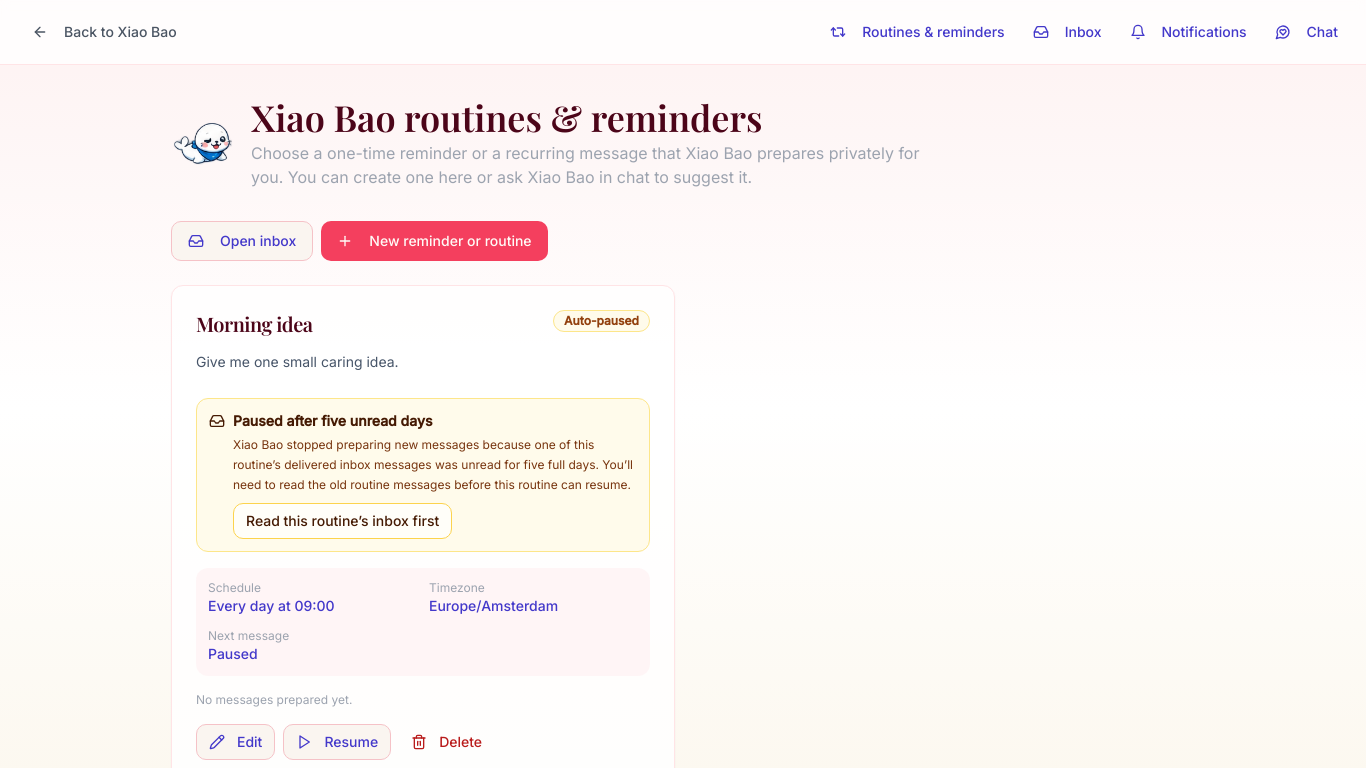
Test: Xiao Bao routines page › explains an unread-inactivity auto-pause and guides the owner to the inbox
This screenshot has width=1366, height=768.
Expected: the text "Auto-paused" is shown, [553, 310, 650, 332]
Expected: the text "Paused after five unread days" is shown, [233, 412, 432, 429]
Click the button "Resume": (337, 742) [283, 724, 391, 760]
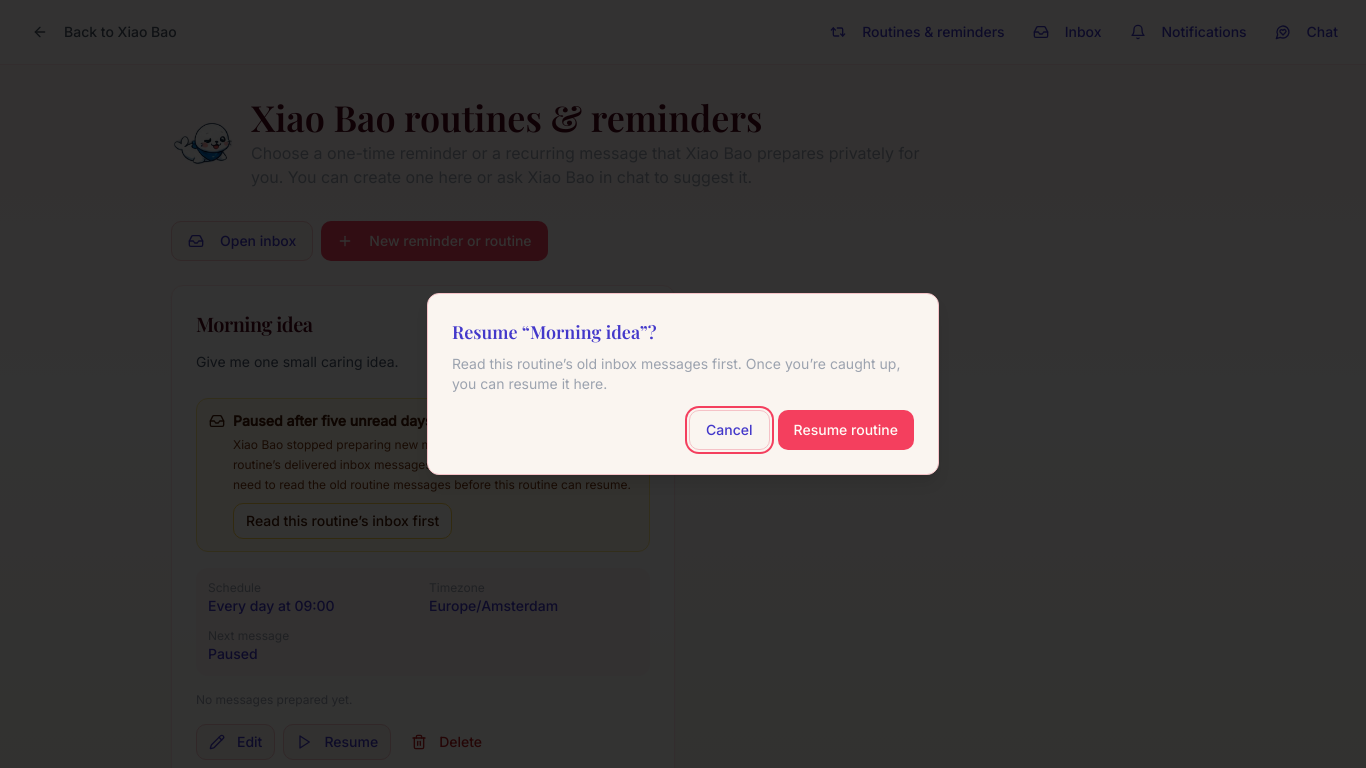
Now the text "once you’re caught up, you can resume it here" is shown, box [452, 355, 900, 392]
